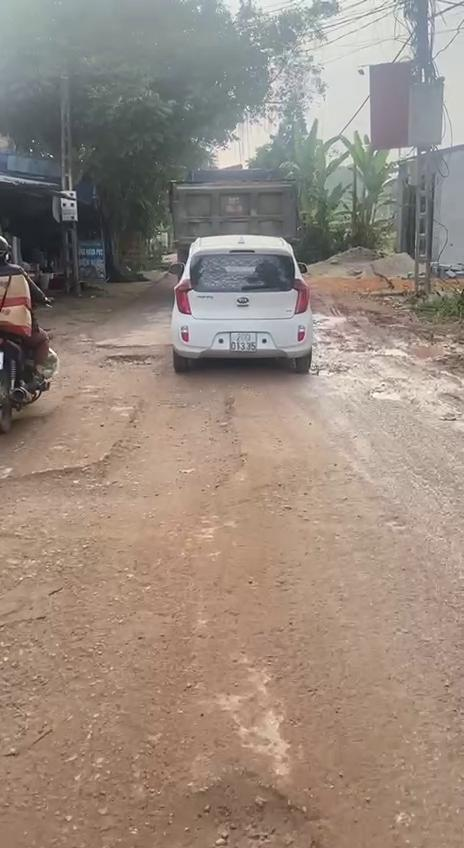pothole: (5, 439, 248, 504), (174, 763, 317, 848), (91, 352, 168, 372)
